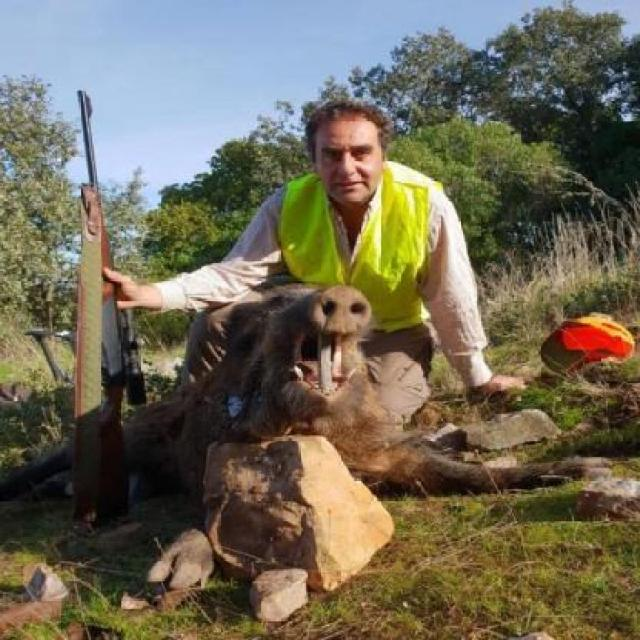wildboar: (113, 273, 592, 498)
